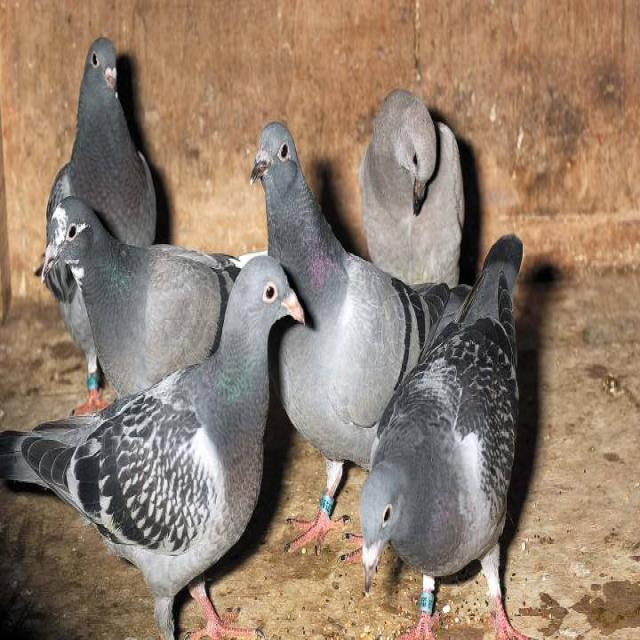bird: (0, 252, 318, 638), (245, 127, 481, 554), (356, 202, 535, 639), (32, 184, 223, 406), (350, 82, 480, 290), (45, 20, 165, 243)
